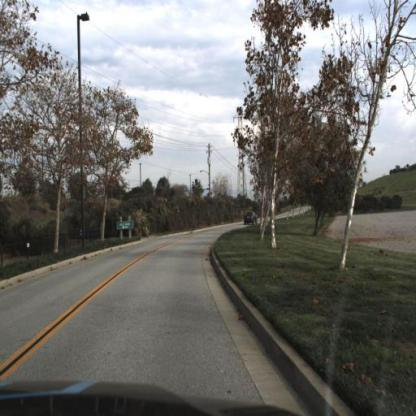car: (243, 210, 260, 230)
